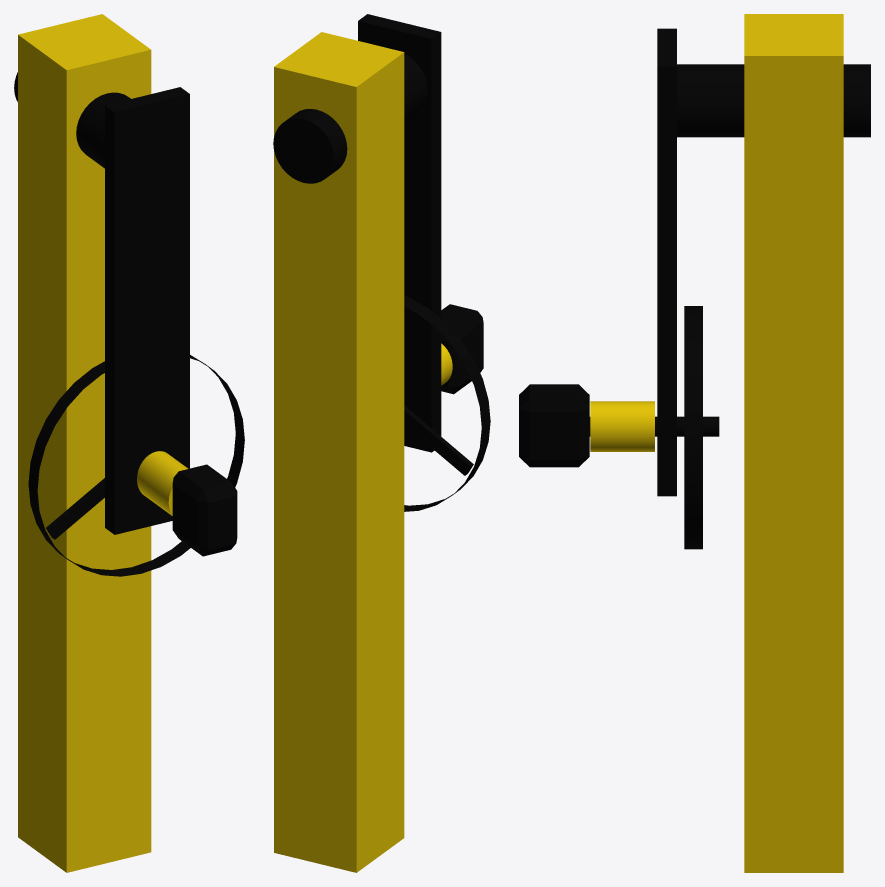
3 renders of one model, left to right at view 1: azimuth 30°, elevation 25°; view 2: azimuth 150°, elevation 25°; view 3: azimuth 270°, elevation 25°, orthographic. The views are drawn at different scales.
Parts seen in each view (by area): view 1: Cube, Cube.001, Cylinder.005, Cube.005, Cylinder.004, arm; view 2: Cube, Cube.001, arm, Cylinder.005, Cube.005; view 3: Cube, Cube.001, arm, Cube.005, Cylinder.005, Cylinder.004.
Boxes of the visible parts, x1,y1,x2,y2 form: Cube: (18, 14, 151, 872); Cube.001: (105, 87, 189, 534); Cylinder.005: (28, 355, 244, 576); Cube.005: (172, 464, 237, 556); Cylinder.004: (137, 451, 188, 515); arm: (14, 72, 130, 168); Cube: (274, 32, 404, 872); Cube.001: (358, 14, 441, 452); arm: (273, 54, 427, 183); Cylinder.005: (404, 296, 490, 511); Cube.005: (441, 304, 483, 394); Cube: (744, 14, 843, 872); Cube.001: (657, 28, 676, 496); arm: (677, 64, 870, 137); Cube.005: (519, 384, 589, 467); Cylinder.005: (684, 306, 702, 549); Cylinder.004: (590, 401, 654, 451).
Size of the model in its own units: 0.5375 by 1.99 by 0.776.
